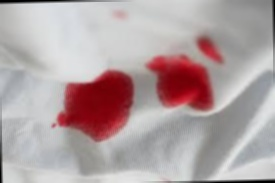blood: (55, 69, 136, 143), (146, 53, 215, 115)
